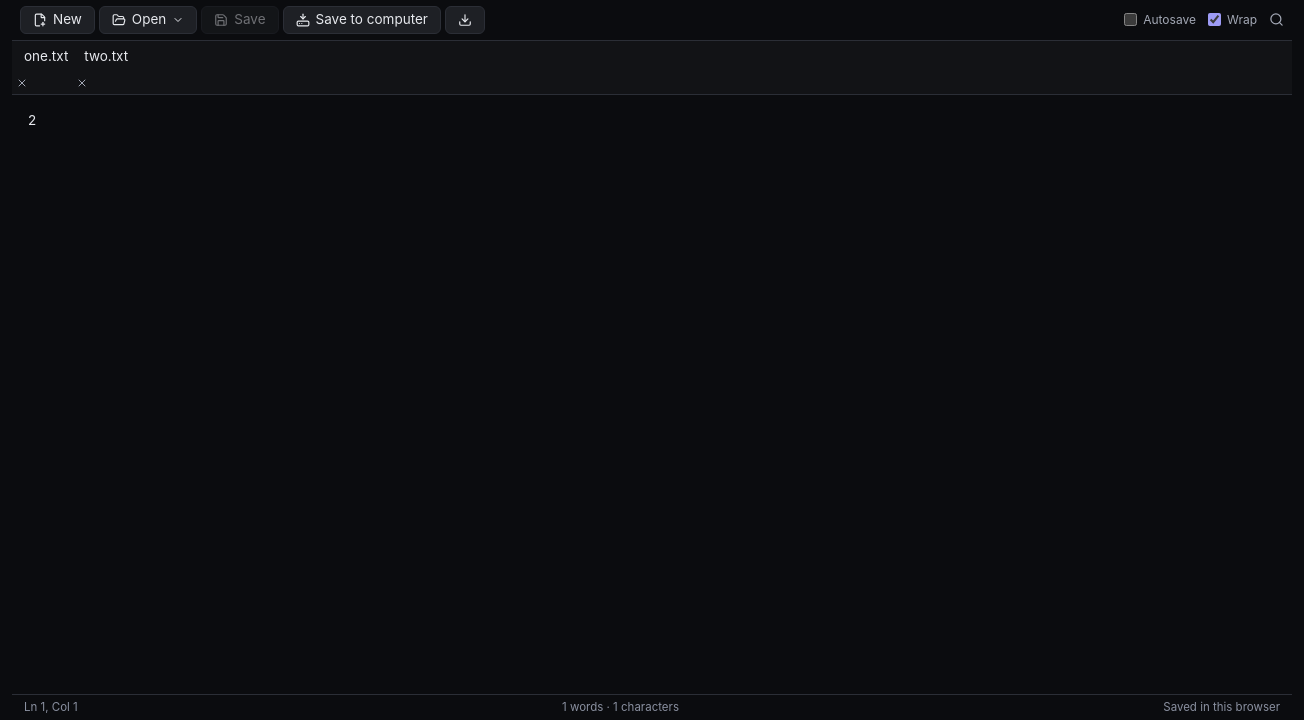
Test: Text Editor › supports multiple documents in tabs
Click the tab "one.txt" at (42, 57), box x1=12 y1=41 x2=72 y2=73
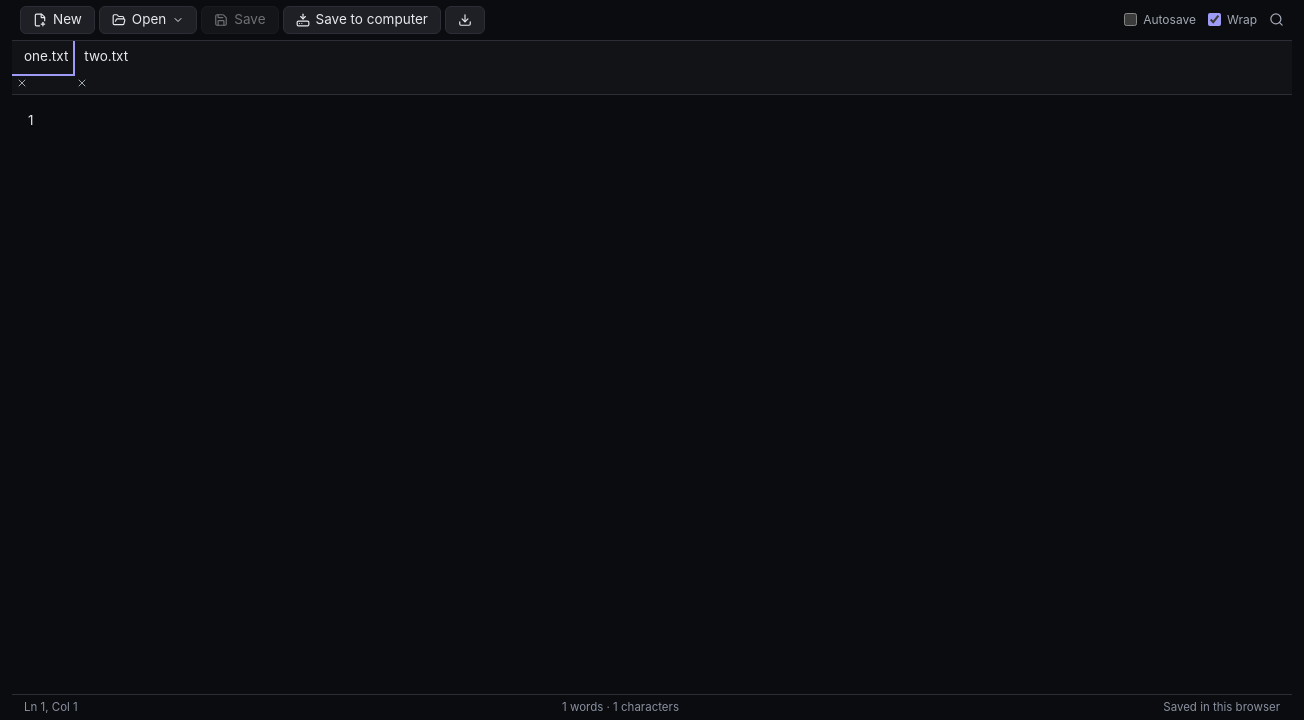
Now the text box named "Editing one.txt" holds "1"
